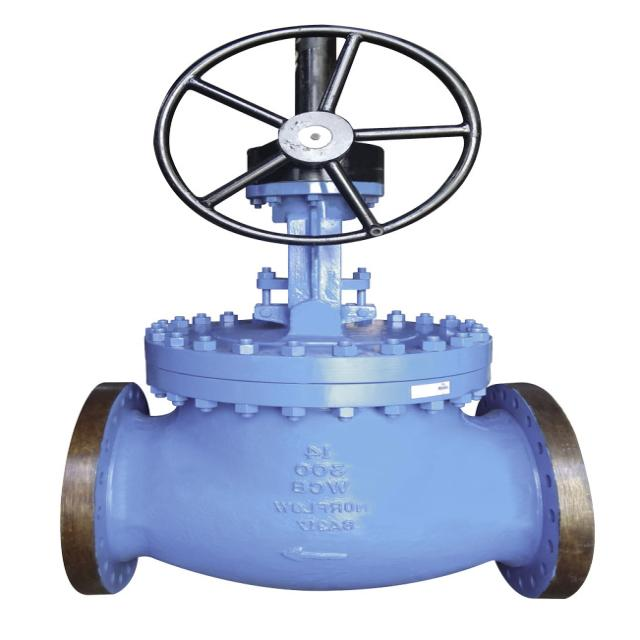Wheel Handle Valve Threaded: (130, 11, 496, 250)
